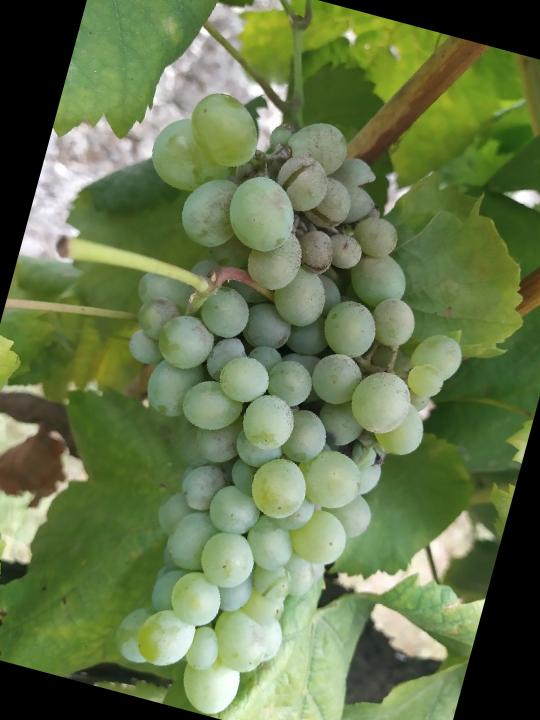grape: (11, 76, 517, 720)
